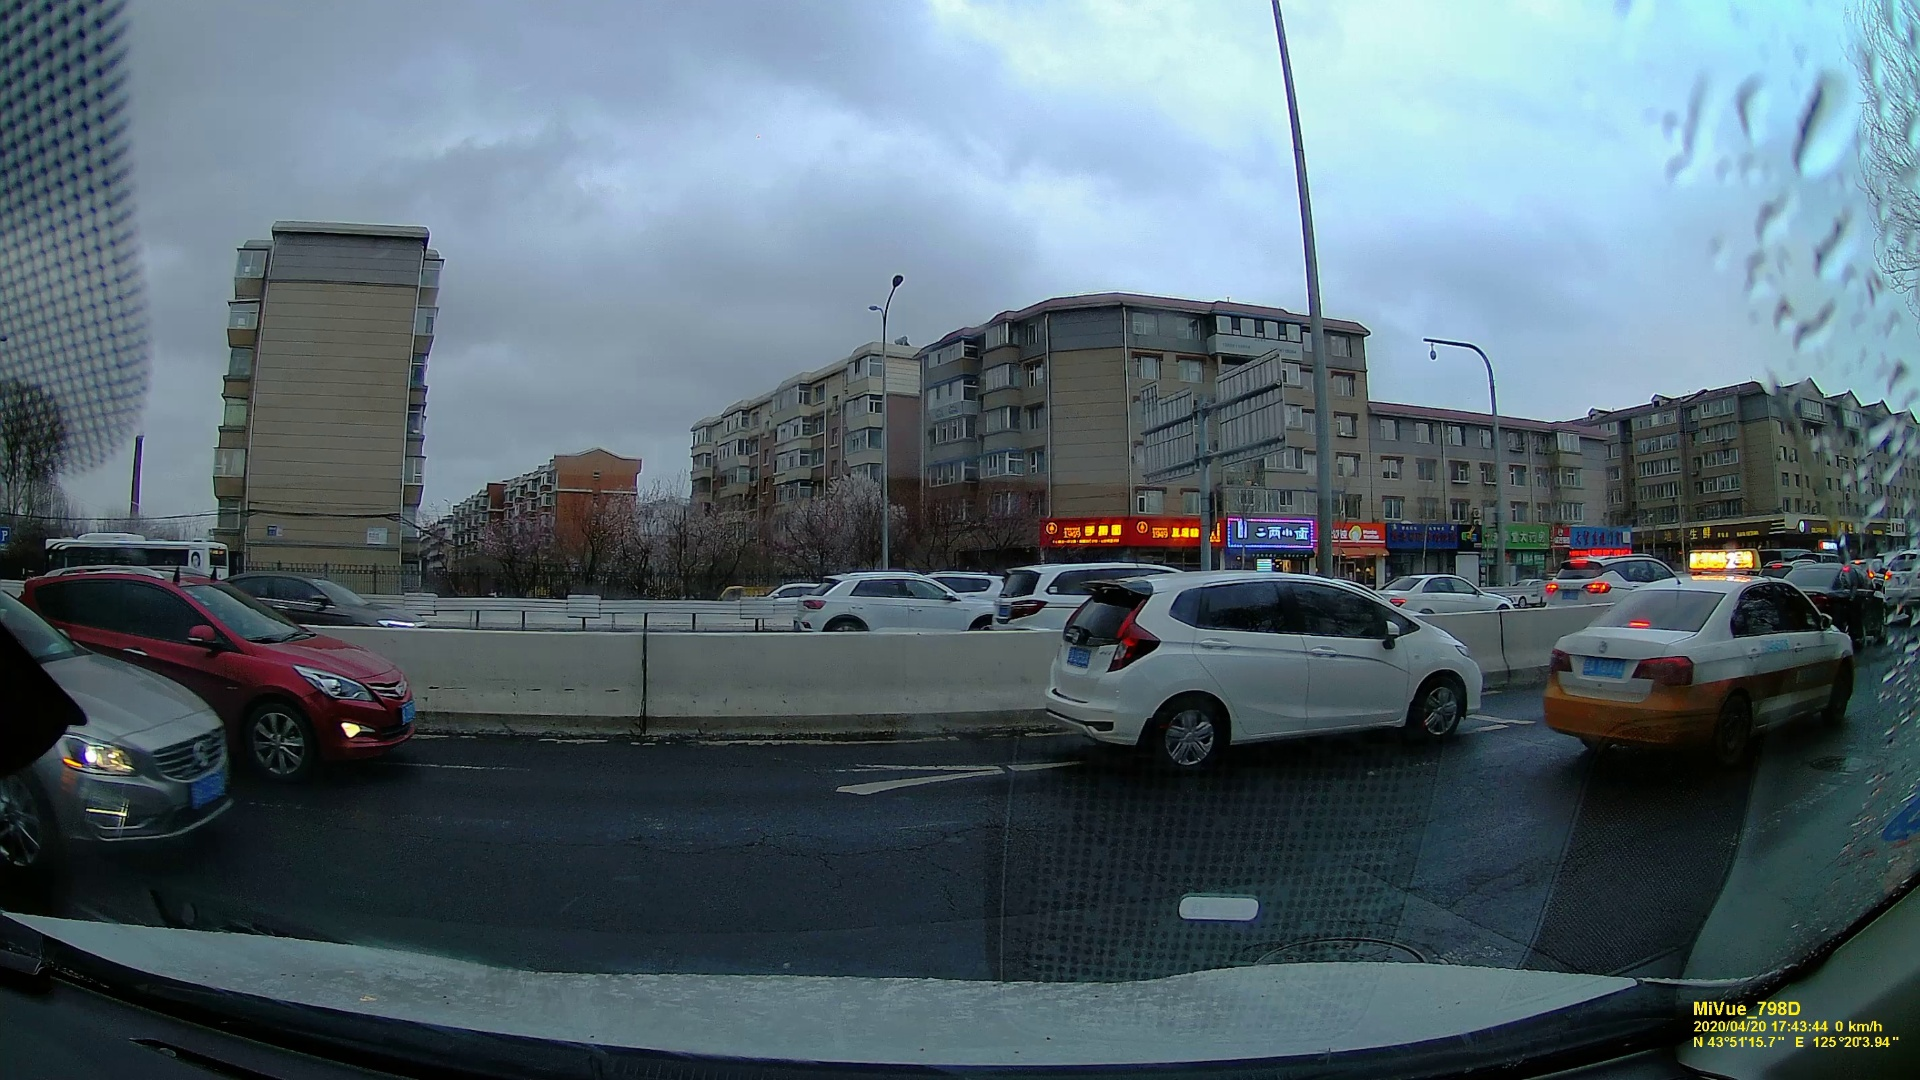bus: (37, 531, 222, 585)
vehicle: (1048, 568, 1481, 758), (1, 612, 232, 856), (1553, 575, 1857, 738), (203, 583, 419, 770), (793, 568, 978, 636), (1549, 553, 1673, 612), (1381, 574, 1513, 613), (993, 563, 1046, 633)
